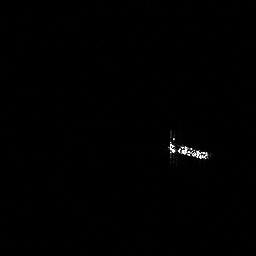ship: (163, 129, 213, 166)
